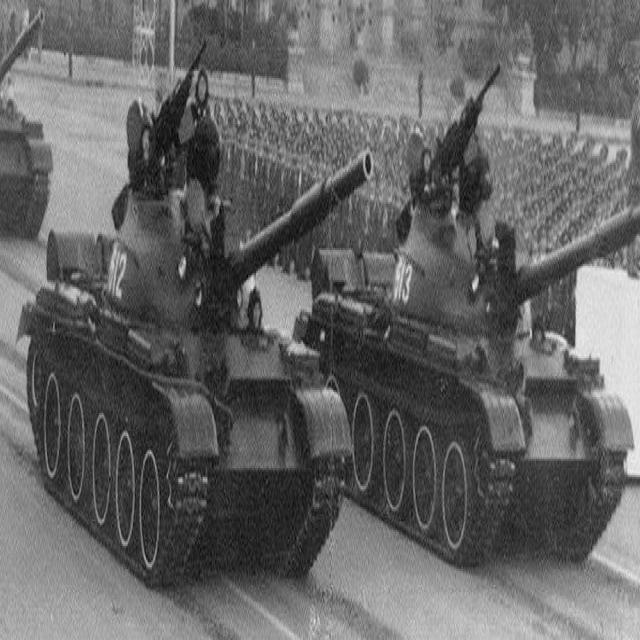north tank: (18, 78, 377, 602), (299, 55, 640, 585)
